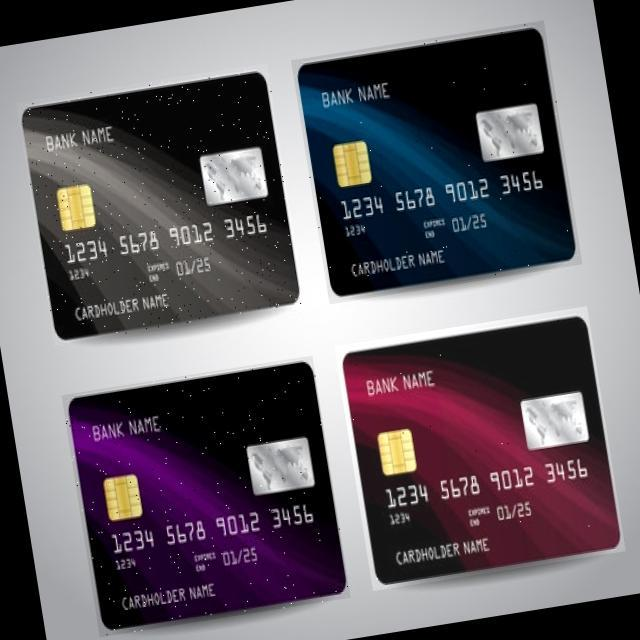payment_card: (340, 308, 622, 587), (295, 25, 575, 298), (68, 362, 347, 631), (21, 71, 299, 339)
